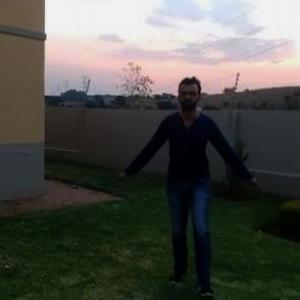land: (123, 71, 264, 289)
